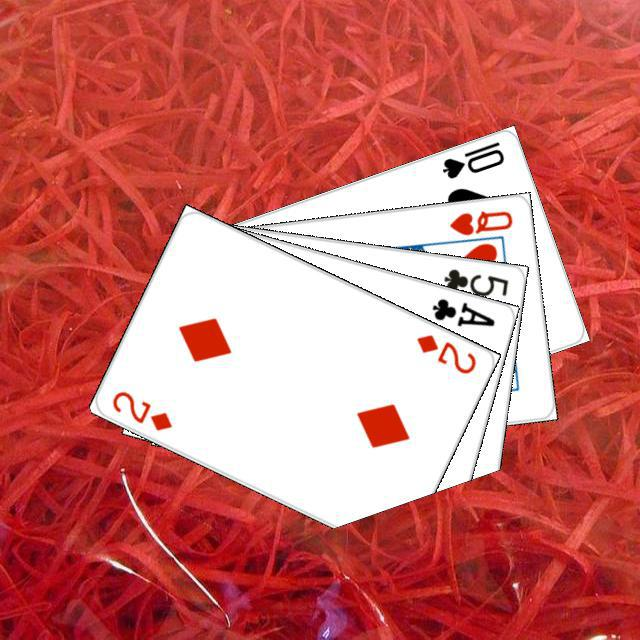10s: (437, 136, 506, 181)
2d: (411, 329, 478, 376), (107, 386, 174, 433)
5c: (439, 264, 510, 298)
Ac: (427, 293, 497, 329)
Qh: (444, 205, 515, 238)
